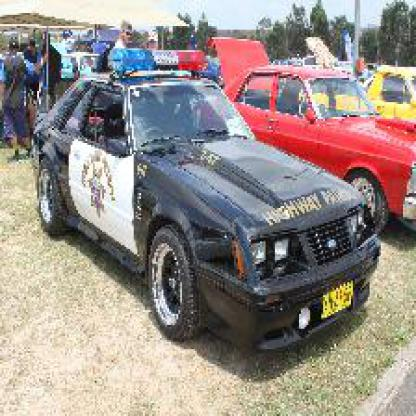emergency: (28, 49, 384, 334)
not_emergency: (199, 32, 414, 240)
